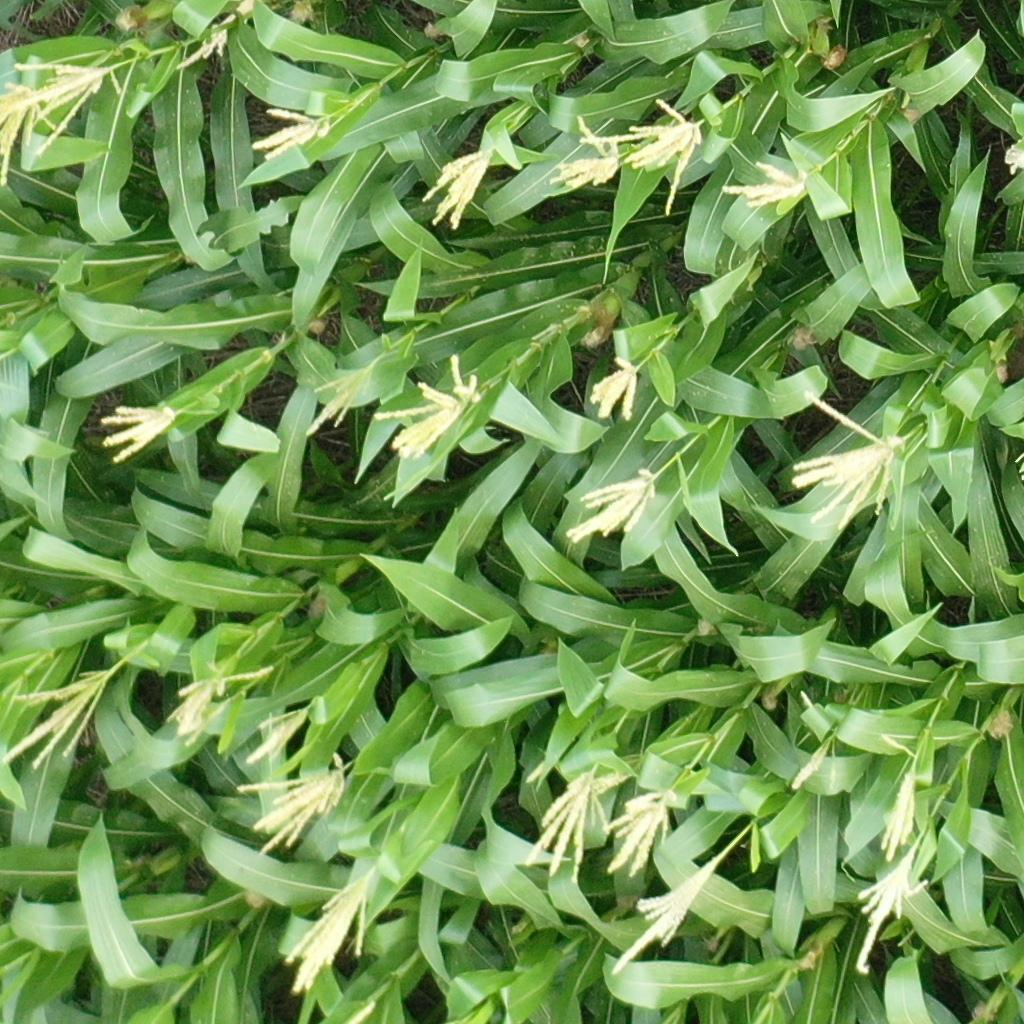Tassel: (790, 390, 904, 533), (579, 99, 706, 215), (523, 755, 626, 889), (282, 860, 379, 1001), (609, 856, 721, 976), (373, 355, 488, 462), (2, 664, 117, 768), (235, 753, 348, 855), (845, 833, 928, 970), (8, 51, 112, 160), (166, 657, 274, 745), (563, 466, 663, 546), (417, 140, 502, 230), (607, 785, 682, 876), (302, 355, 376, 445), (550, 115, 626, 198), (876, 731, 923, 863), (98, 397, 180, 466), (1, 80, 53, 188), (173, 1, 256, 66), (714, 155, 815, 208), (249, 106, 343, 162), (248, 703, 312, 767), (587, 356, 642, 423), (791, 731, 839, 795), (999, 145, 1024, 176)
